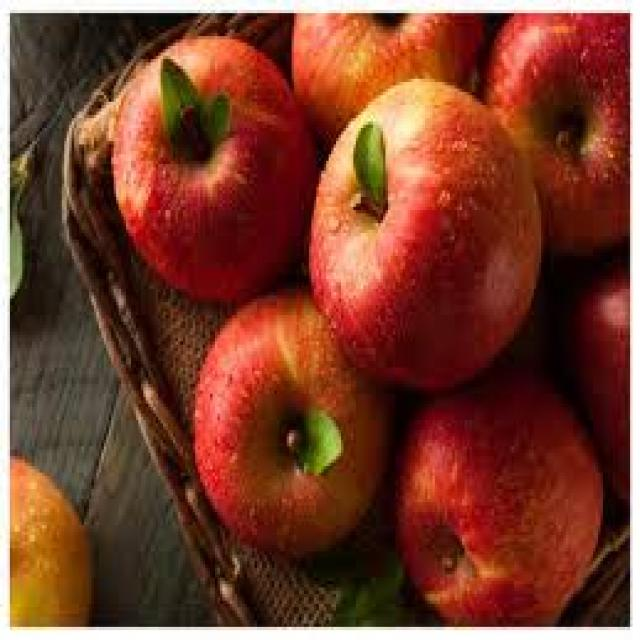apple: (110, 29, 326, 302)
